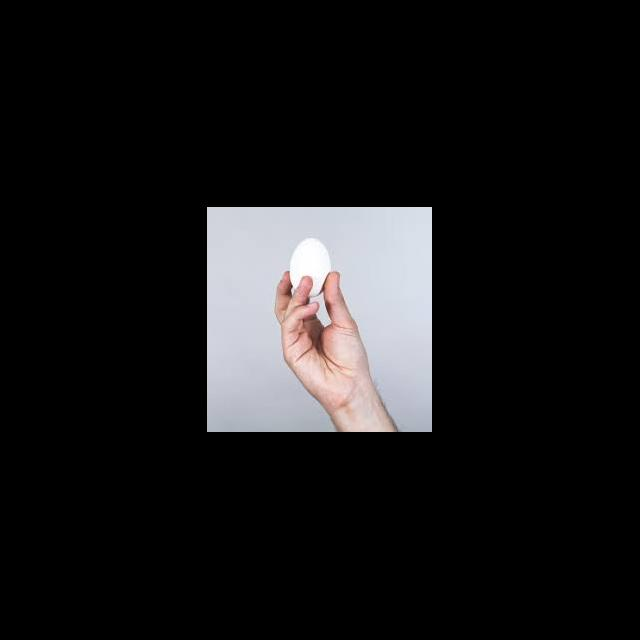egg: (289, 239, 332, 297)
